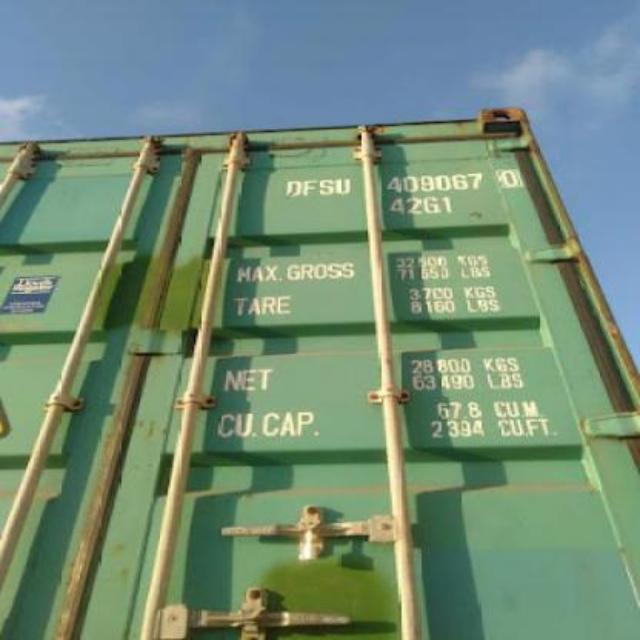0: (500, 167, 524, 190), (434, 167, 450, 196), (404, 174, 420, 196)
4: (380, 170, 400, 192)
6: (452, 170, 470, 194)
7: (466, 164, 486, 193)
9: (416, 172, 434, 194)
D: (280, 176, 302, 200)
F: (299, 179, 315, 197)
S: (318, 176, 334, 197)
U: (330, 177, 354, 193)
